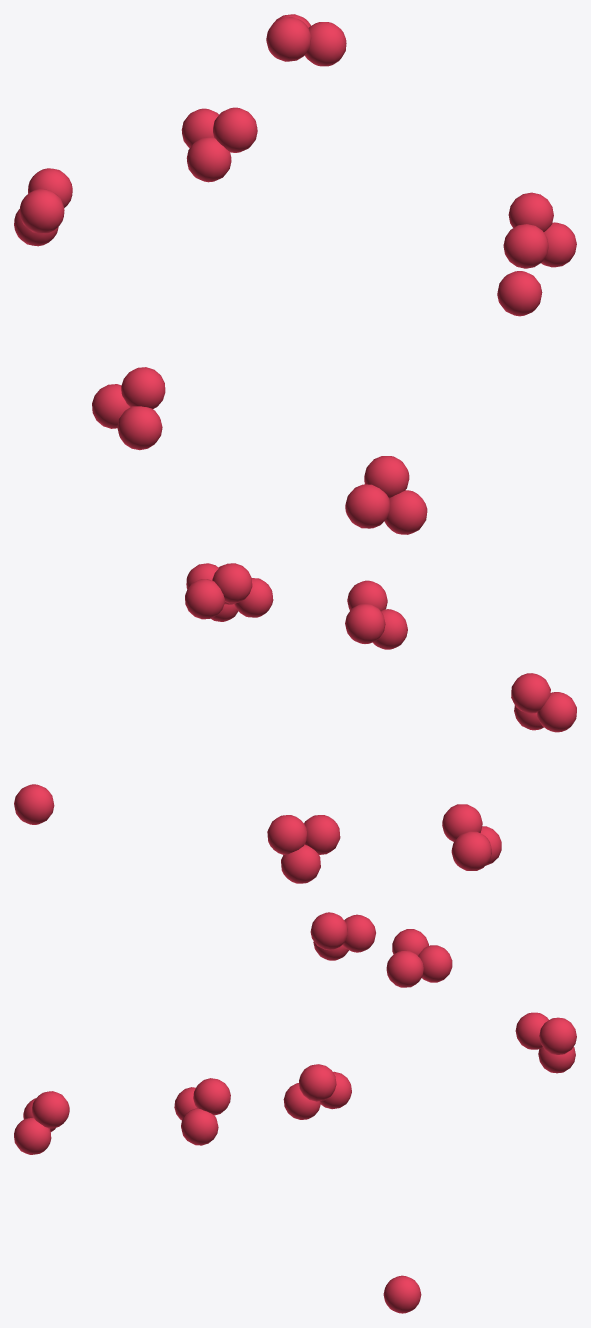
Rendered from Berries.fbx.
The picture shows the model from 3 angles, top to bottom: view 1: azimuth 30°, elevation 25°; view 2: azimuth 150°, elevation 25°; view 3: azimuth 270°, elevation 25°; orthographic projection. The views are drawn at different scales.
Parts seen in each view (by area): view 1: Berries; view 2: Berries; view 3: Berries.
Boxes of the visible parts, bbox=[...] form: Berries: bbox=[14, 14, 576, 534]; Berries: bbox=[14, 563, 576, 883]; Berries: bbox=[14, 912, 576, 1313].
Bounding box in the file's own units: 768 × 524 × 924.
